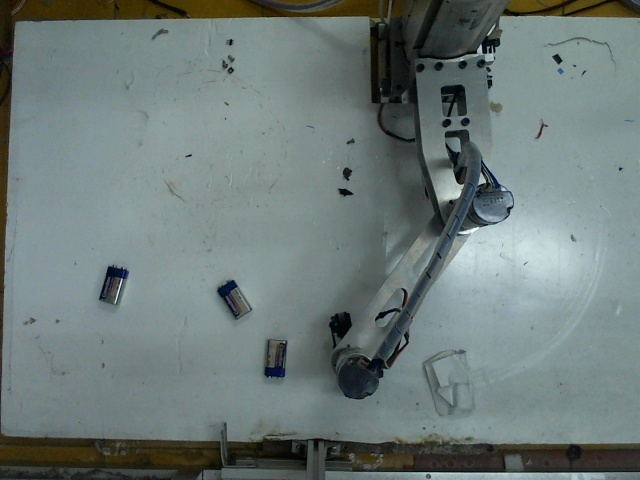battery: (214, 276, 250, 320), (257, 336, 290, 381), (100, 262, 128, 303)
